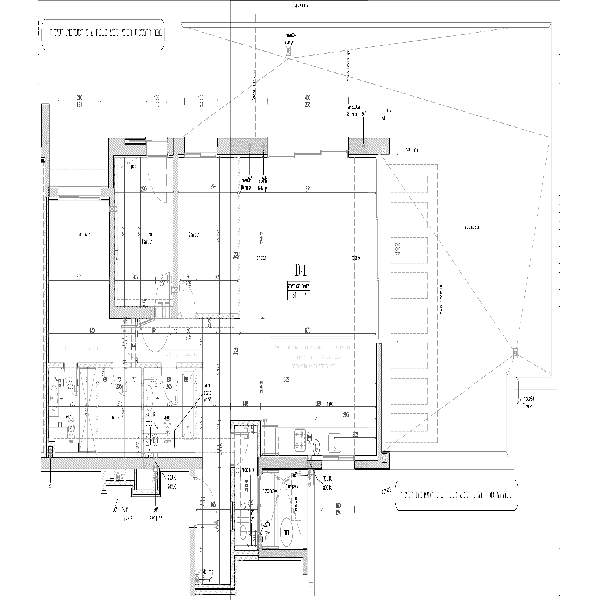room: (111, 136, 238, 319), (231, 335, 386, 476)
